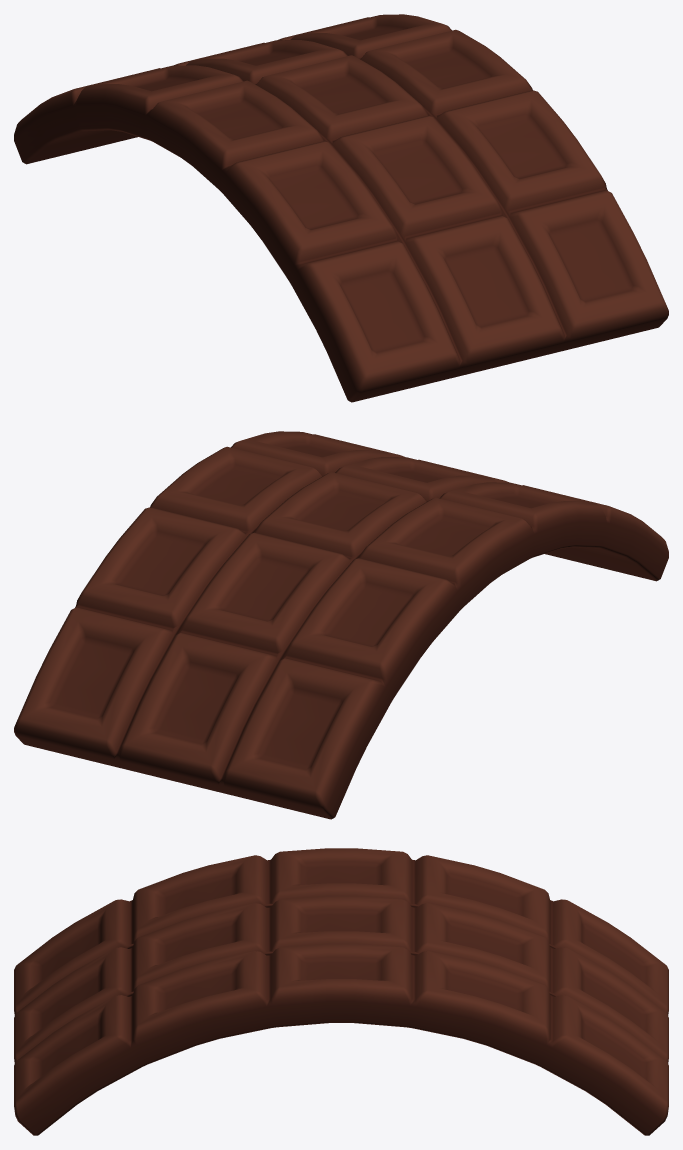
The model's file is ChocolateBridge_01.glb.
3 views of the same model, one above another, from view 1: azimuth 30°, elevation 25°; view 2: azimuth 150°, elevation 25°; view 3: azimuth 270°, elevation 25° (orthographic). The views are drawn at different scales.
Parts seen in each view (by area): view 1: ChocolateBridge_01; view 2: ChocolateBridge_01; view 3: ChocolateBridge_01.
Part boxes in pixels (x1=…): ChocolateBridge_01: x1=14, y1=14, x2=668, y2=402; ChocolateBridge_01: x1=14, y1=431, x2=668, y2=819; ChocolateBridge_01: x1=14, y1=848, x2=668, y2=1135.
Bounding box in the file's own units: 4.5 × 2.19 × 8.68.
Materials: 1 (1 with a texture image).
